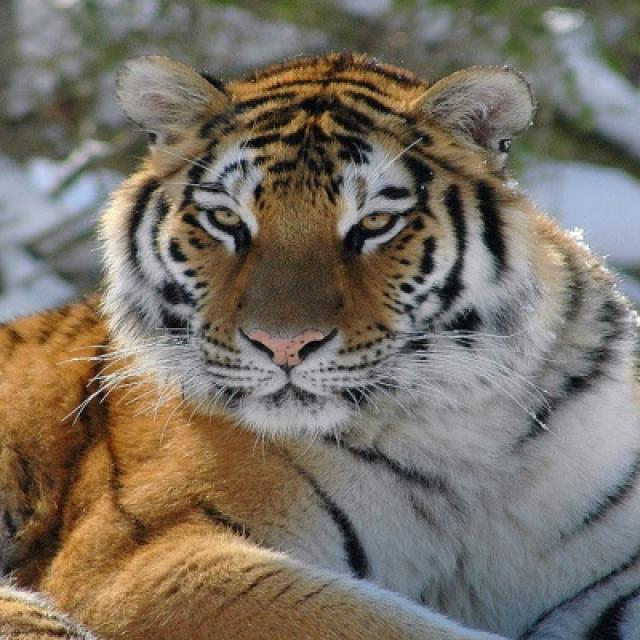Tiger: (0, 54, 638, 638)
